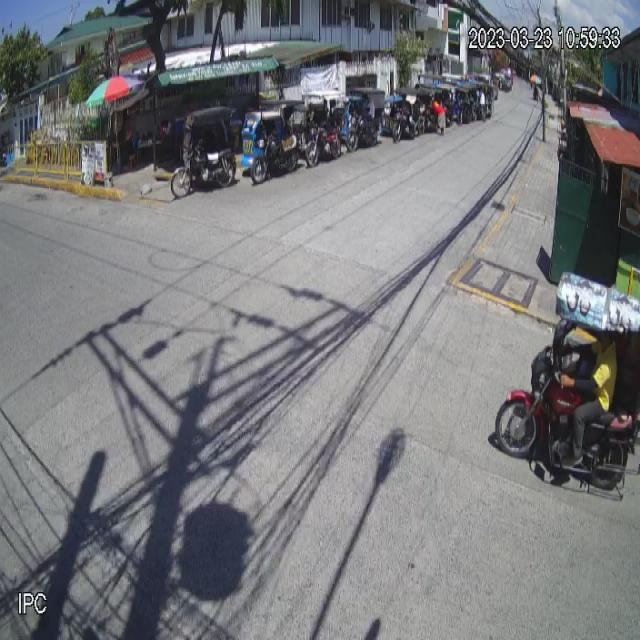Tricycle: (493, 271, 640, 493)
